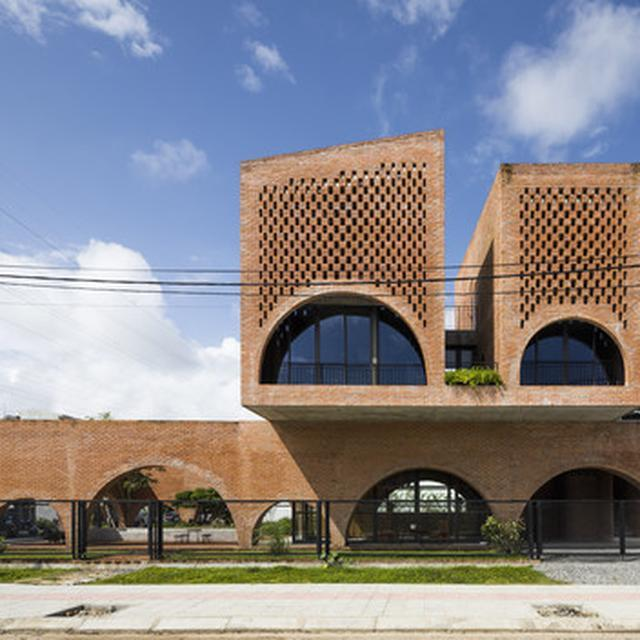building: (239, 127, 640, 418), (0, 416, 640, 559)
